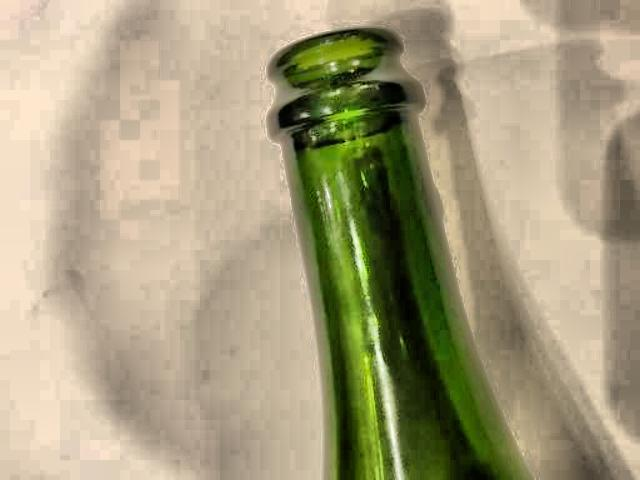Bottles: (241, 14, 547, 480)
